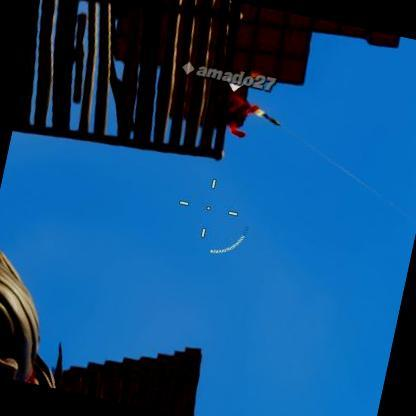person: (219, 94, 264, 137)
